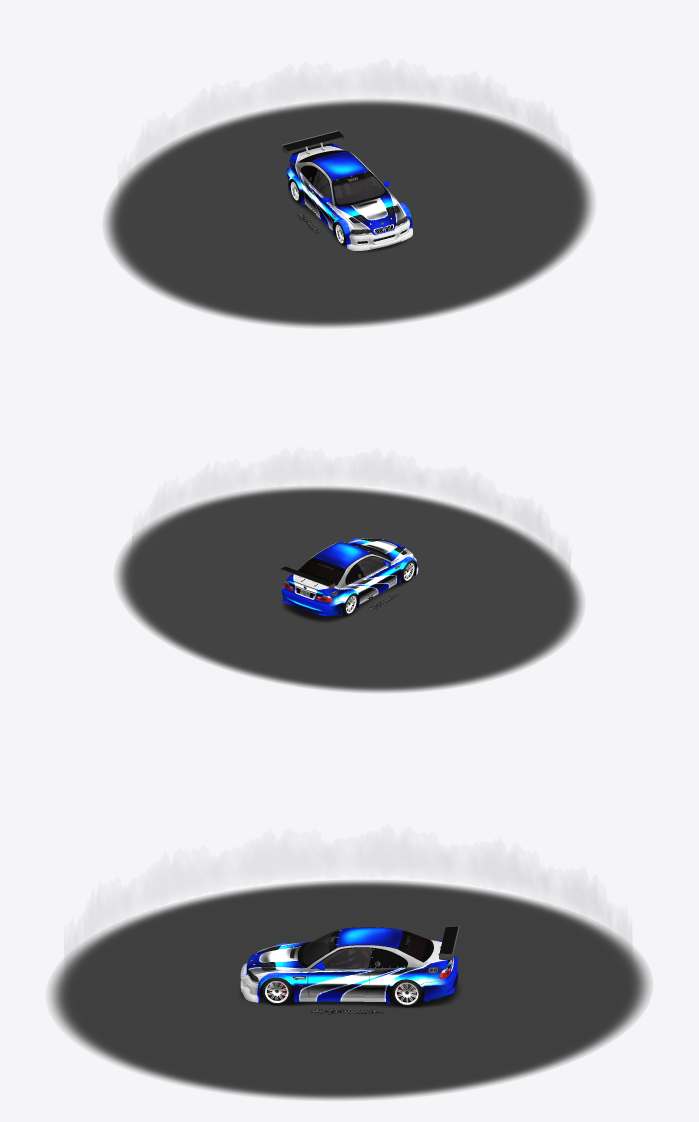
Rendered from bmw_m3_gtr_e46_nfs_mostwanted.glb.
The picture shows the model from 3 angles, top to bottom: view 1: azimuth 30°, elevation 25°; view 2: azimuth 150°, elevation 25°; view 3: azimuth 270°, elevation 25°; orthographic projection. The views are drawn at different scales.
Parts seen in each view (by area): view 1: Object_31, Object_8, Object_35, Object_7; view 2: Object_31, Object_8, Object_36, Object_29; view 3: Object_31, Object_8, Object_35, Object_29, Object_36, Object_7, Object_21, Object_20.
Boxes of the visible parts, bbox=[...] form: Object_31: bbox=[104, 99, 593, 327]; Object_8: bbox=[286, 144, 412, 250]; Object_35: bbox=[313, 170, 384, 204]; Object_7: bbox=[289, 143, 404, 234]; Object_31: bbox=[115, 486, 583, 692]; Object_8: bbox=[281, 538, 418, 616]; Object_36: bbox=[299, 559, 360, 583]; Object_29: bbox=[282, 576, 413, 622]; Object_31: bbox=[48, 880, 650, 1100]; Object_8: bbox=[240, 927, 458, 1003]; Object_35: bbox=[302, 930, 372, 968]; Object_29: bbox=[240, 983, 460, 1007]; Object_36: bbox=[375, 931, 430, 966]; Object_7: bbox=[247, 929, 453, 981]; Object_21: bbox=[265, 981, 418, 1004]; Object_20: bbox=[261, 977, 421, 1007].
Size of the model in its own units: 15.91 by 4.14 by 15.91.
Materials: 35 (30 with a texture image).
